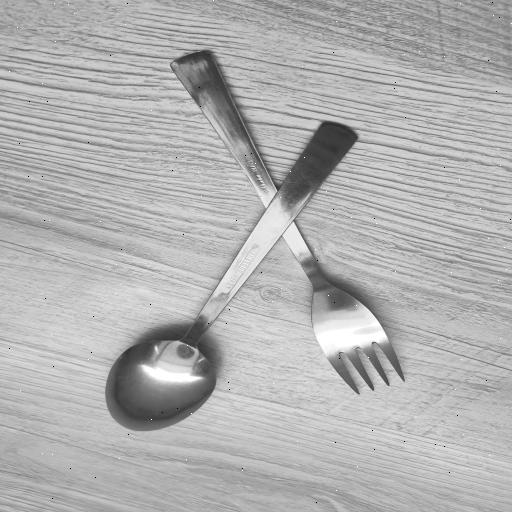fork: (152, 45, 404, 394)
spoon: (104, 120, 358, 432)
